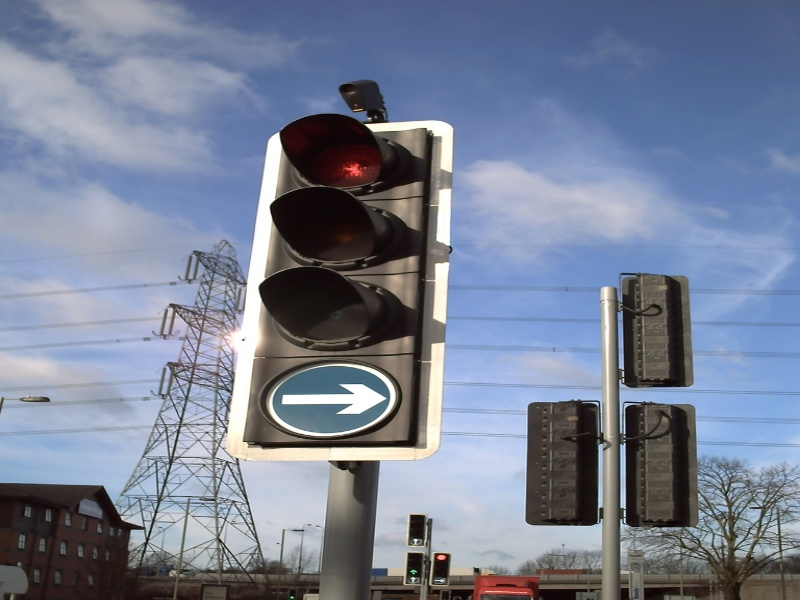right_direction: (278, 370, 389, 423)
